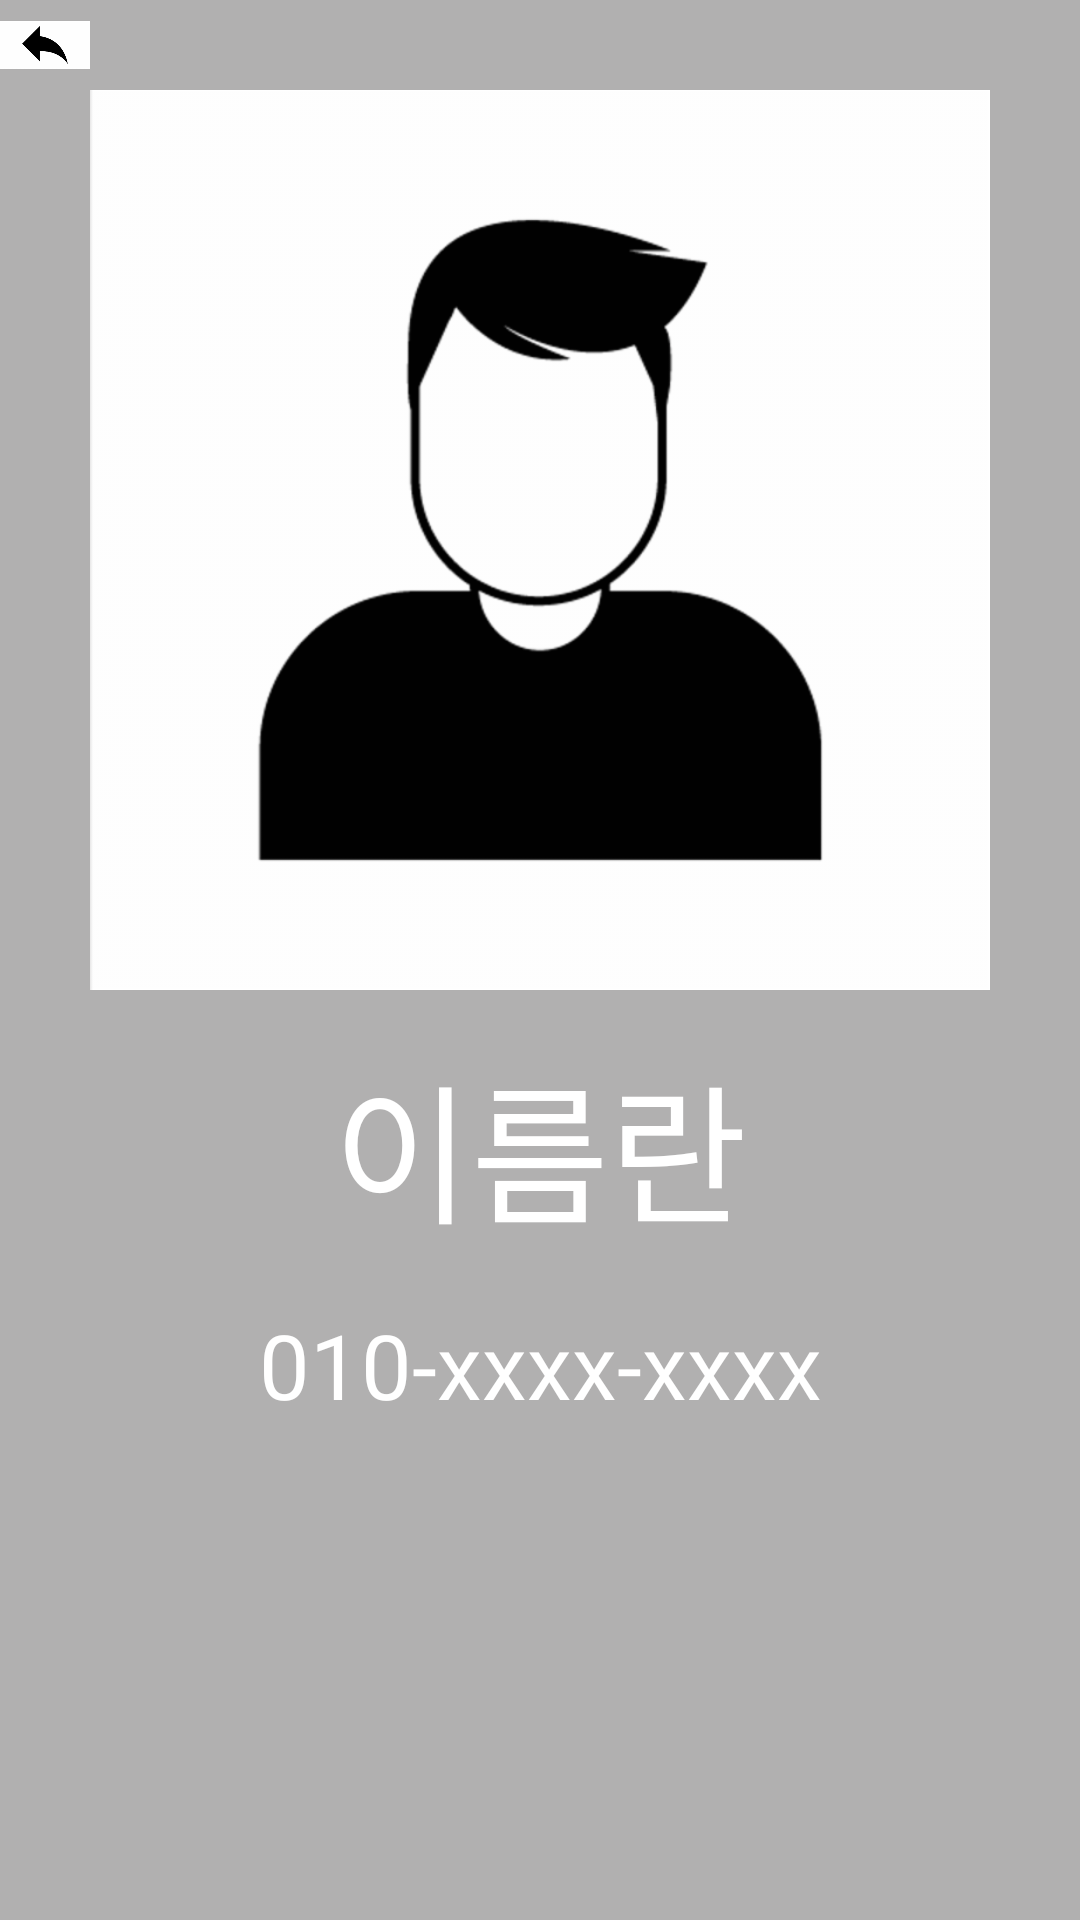

Locate icon controls on the screen. Image size 1080*1920, boxes as (x1, y1, x2, y2).
back: (0, 21, 90, 69)
